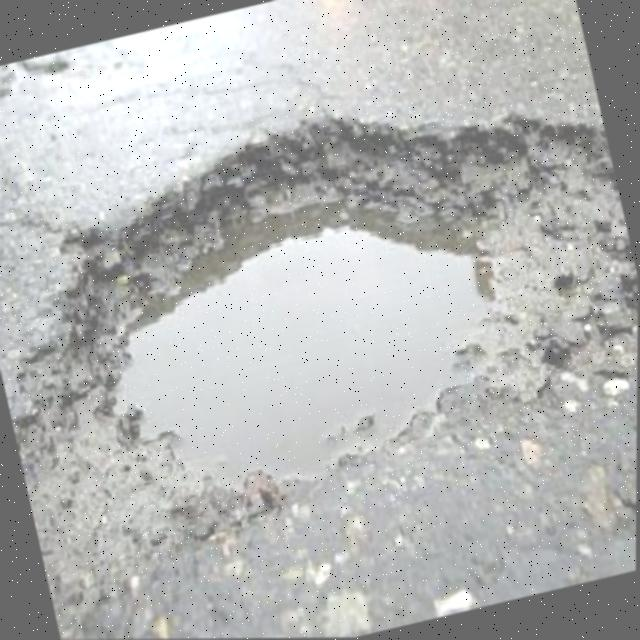Pothole: (0, 40, 640, 558)
